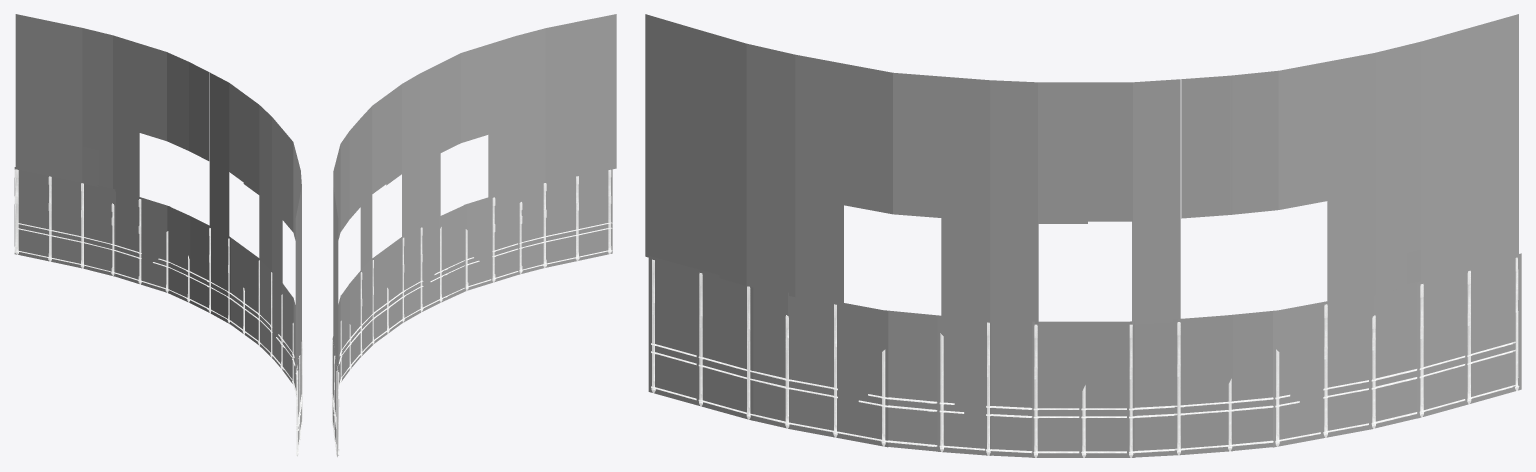
The model's file is P_BossAtriumCircleRailing_Down03.fbx.
3 views of the same model, side by side, from view 1: azimuth 30°, elevation 25°; view 2: azimuth 150°, elevation 25°; view 3: azimuth 270°, elevation 25° (orthographic). The views are drawn at different scales.
Visible parts, largest first — view 1: P_BossAtriumCircleRailing_Down03; view 2: P_BossAtriumCircleRailing_Down03; view 3: P_BossAtriumCircleRailing_Down03.
Part boxes in pixels (<box>): P_BossAtriumCircleRailing_Down03: <box>14,14,302,456</box>; P_BossAtriumCircleRailing_Down03: <box>331,14,616,456</box>; P_BossAtriumCircleRailing_Down03: <box>645,14,1521,457</box>.
Bounding box in the file's own units: 487 × 1212 × 2562.
